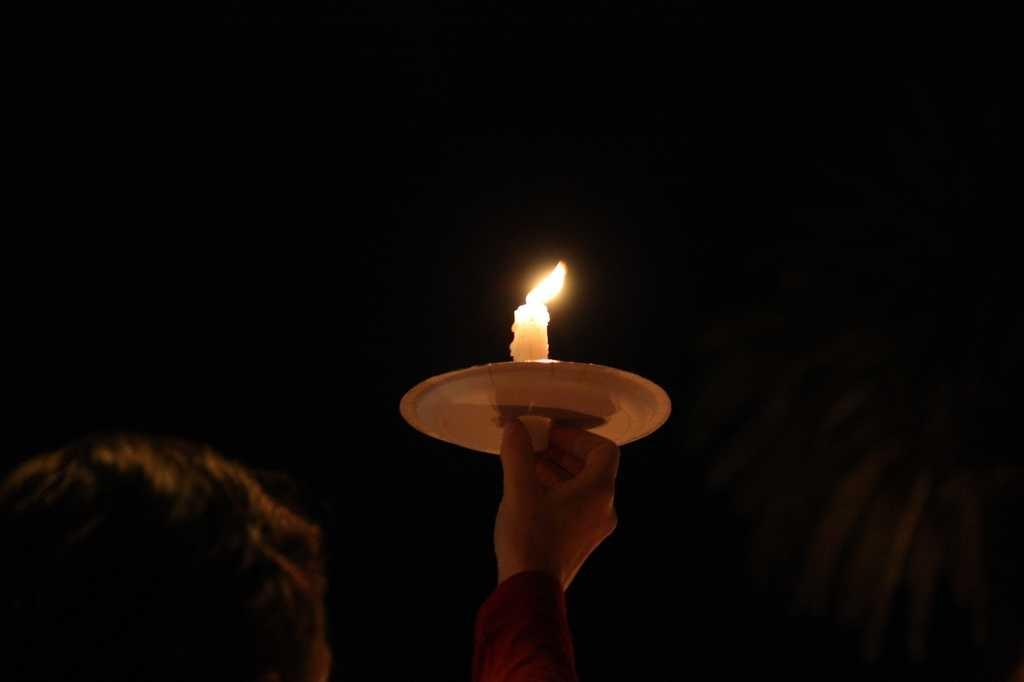fire: (533, 260, 568, 308)
